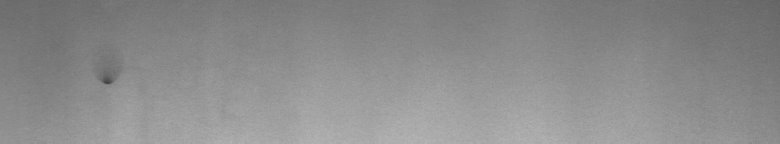fi: (100, 76, 115, 92)
